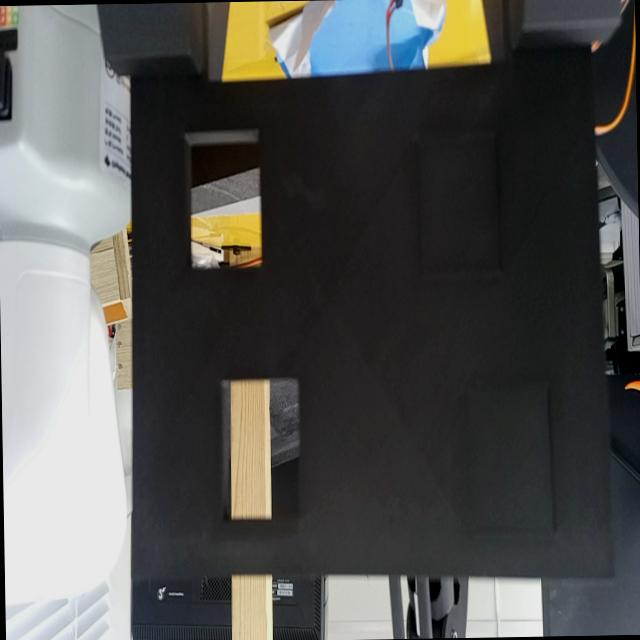Obstacle: (219, 379, 299, 520), (185, 133, 262, 268)
Wall: (131, 47, 614, 583)
